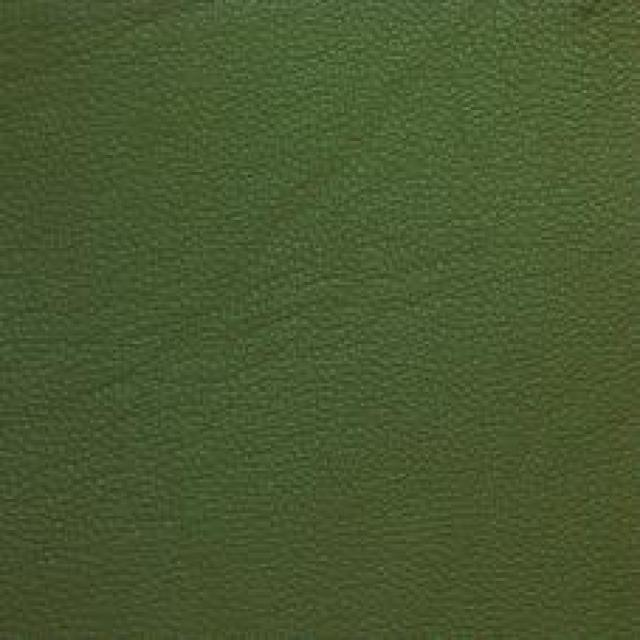Growth Marks: (58, 259, 436, 425), (17, 13, 182, 113)
